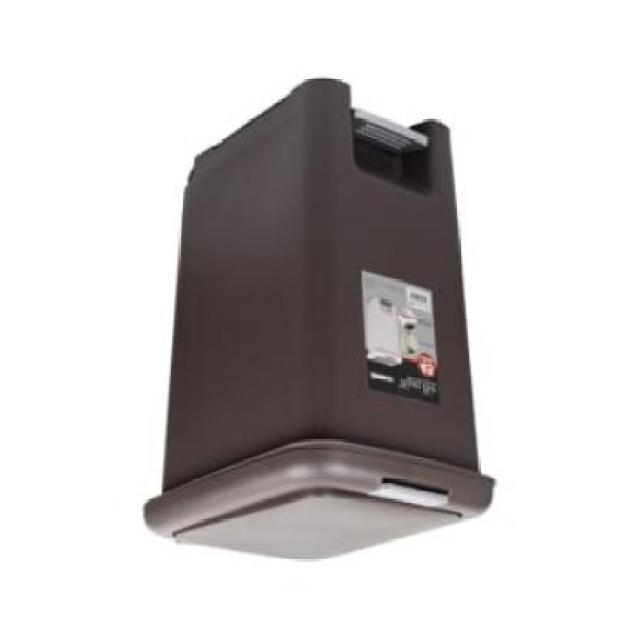garbage container: (125, 72, 507, 575)
